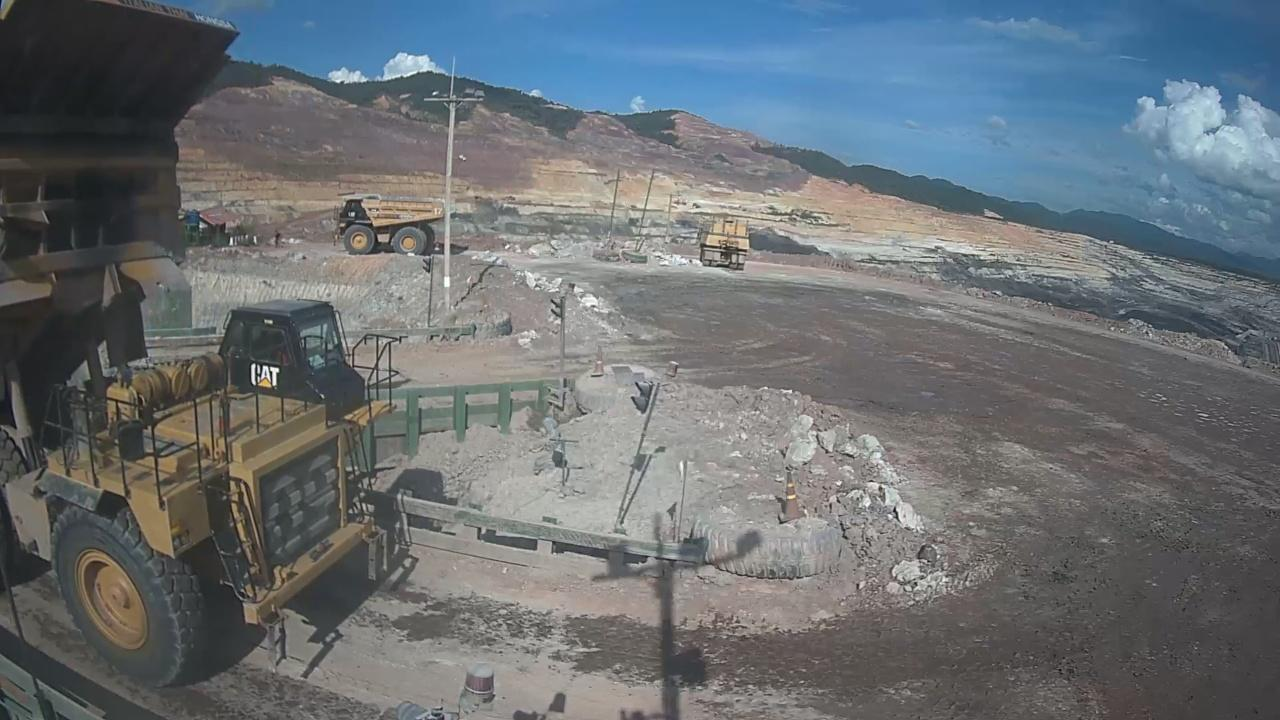dump_truck: (0, 2, 431, 699)
mining_truck: (333, 184, 453, 259)
tail_number: (431, 206, 446, 218)
